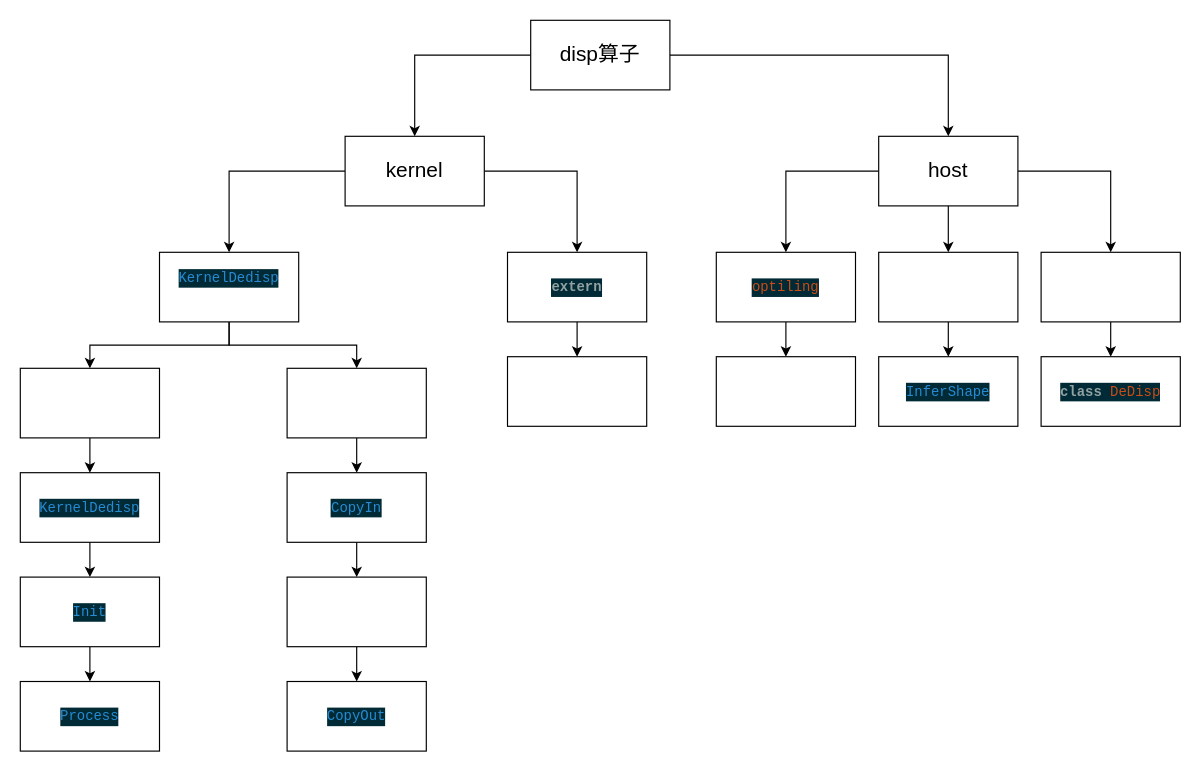
This 1201x771 diagram has some shape labels left out. The centre of each missing label's shape, as x and y in pixels:
Compute: (x=356, y=611)
de_disp: (x=576, y=391)
ge: (x=948, y=286)
ops: (x=1110, y=286)
private: (x=356, y=402)
public: (x=89, y=402)
TilingFunc: (x=785, y=391)
